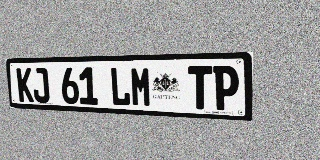1: (78, 67, 98, 105)
6: (60, 67, 80, 104)
J: (32, 68, 50, 103)
K: (16, 68, 34, 102)
L: (110, 67, 131, 106)
M: (130, 67, 152, 107)
P: (213, 66, 239, 111)
T: (188, 66, 212, 110)
